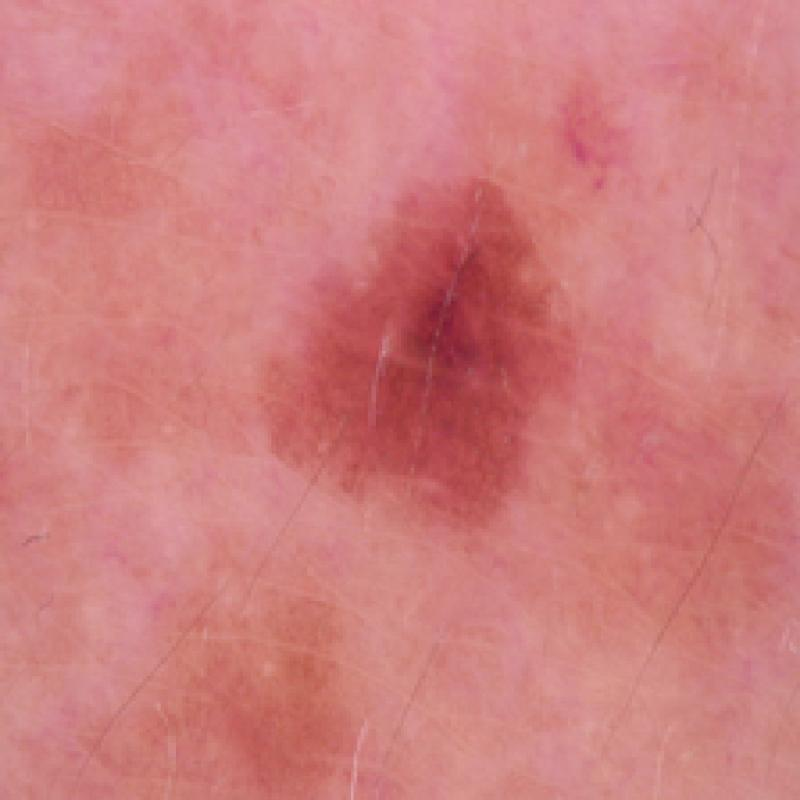benign: (256, 148, 582, 551)
